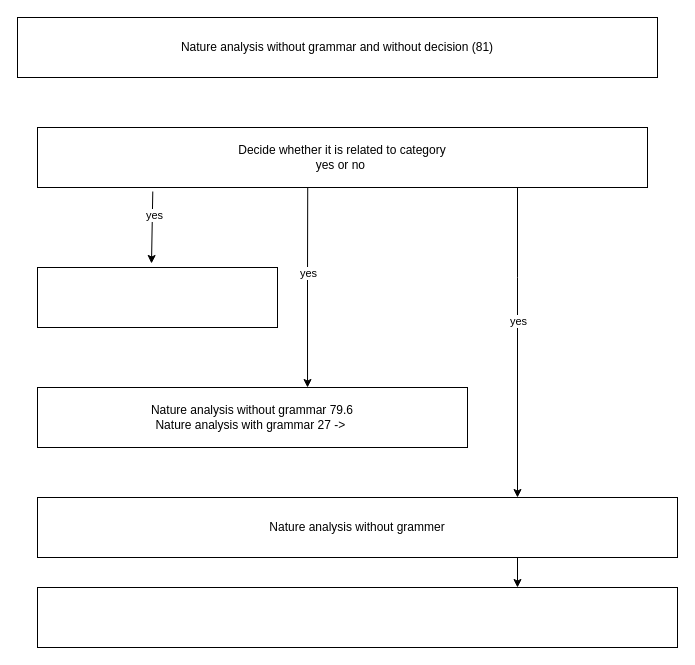
This 695x665 diagram has some shape labels left out. The shapes that lost their labels are listed below. From the top down, each one's centre as x and y in pixels, then its label:
the point at 157,297: sentence extraction without grammar 89.5 sentence extraction with grammar 93.2
the point at 357,617: Nature extraction with grammer
